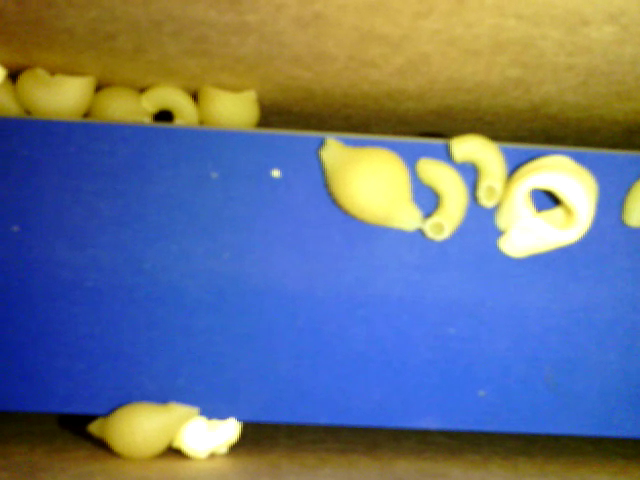elbow: (446, 130, 508, 209), (416, 157, 469, 242), (144, 83, 201, 127)
shell: (314, 133, 426, 235), (86, 400, 201, 458), (15, 66, 94, 120), (198, 80, 260, 129), (89, 84, 154, 125)
tortellini: (493, 150, 601, 260)
